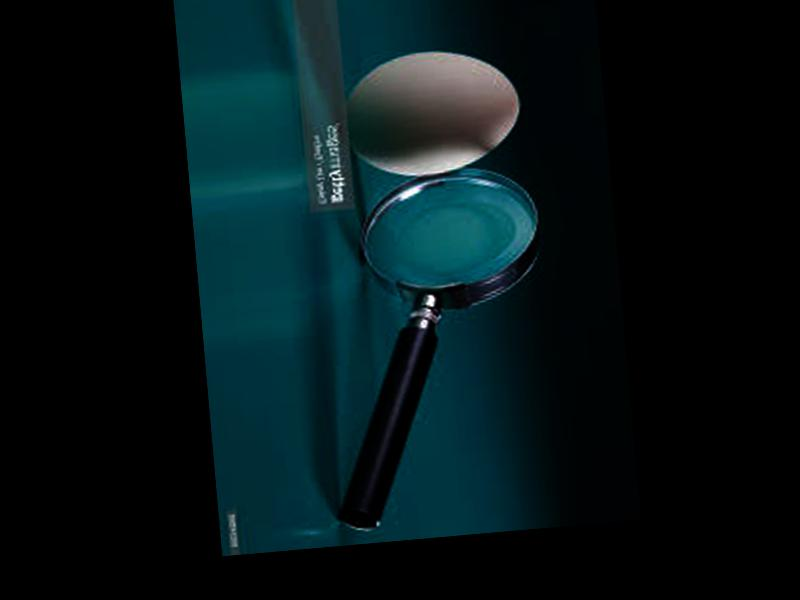Eggs: (339, 43, 526, 182)
